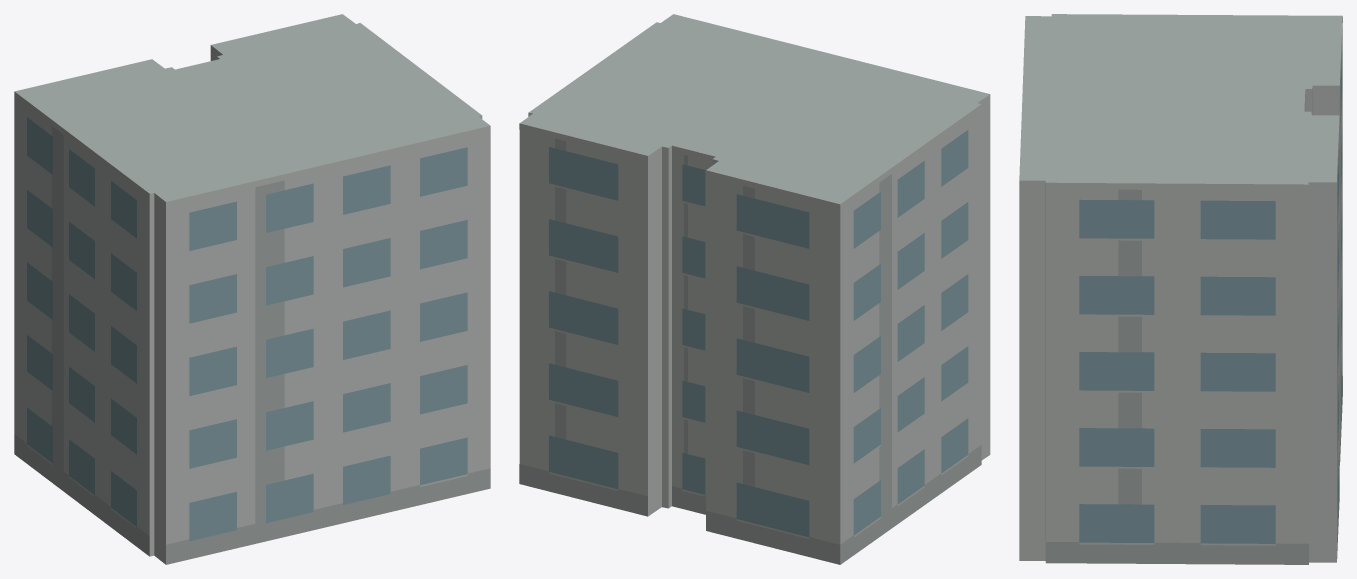
Rendered from survey-upis-32838182.glb.
The picture shows the model from 3 angles, left to right: view 1: azimuth 30°, elevation 25°; view 2: azimuth 150°, elevation 25°; view 3: azimuth 270°, elevation 25°; orthographic projection. The views are drawn at different scales.
Parts seen in each view (by area): view 1: survey-upis-32838182.tmp; view 2: survey-upis-32838182.tmp; view 3: survey-upis-32838182.tmp.
Boxes of the visible parts, left/top/right/bottom form: survey-upis-32838182.tmp: left=14, top=14, right=490, bottom=564; survey-upis-32838182.tmp: left=519, top=14, right=990, bottom=564; survey-upis-32838182.tmp: left=1019, top=14, right=1342, bottom=564.
Size of the model in its own units: 13.75 by 14.3 by 11.03.
